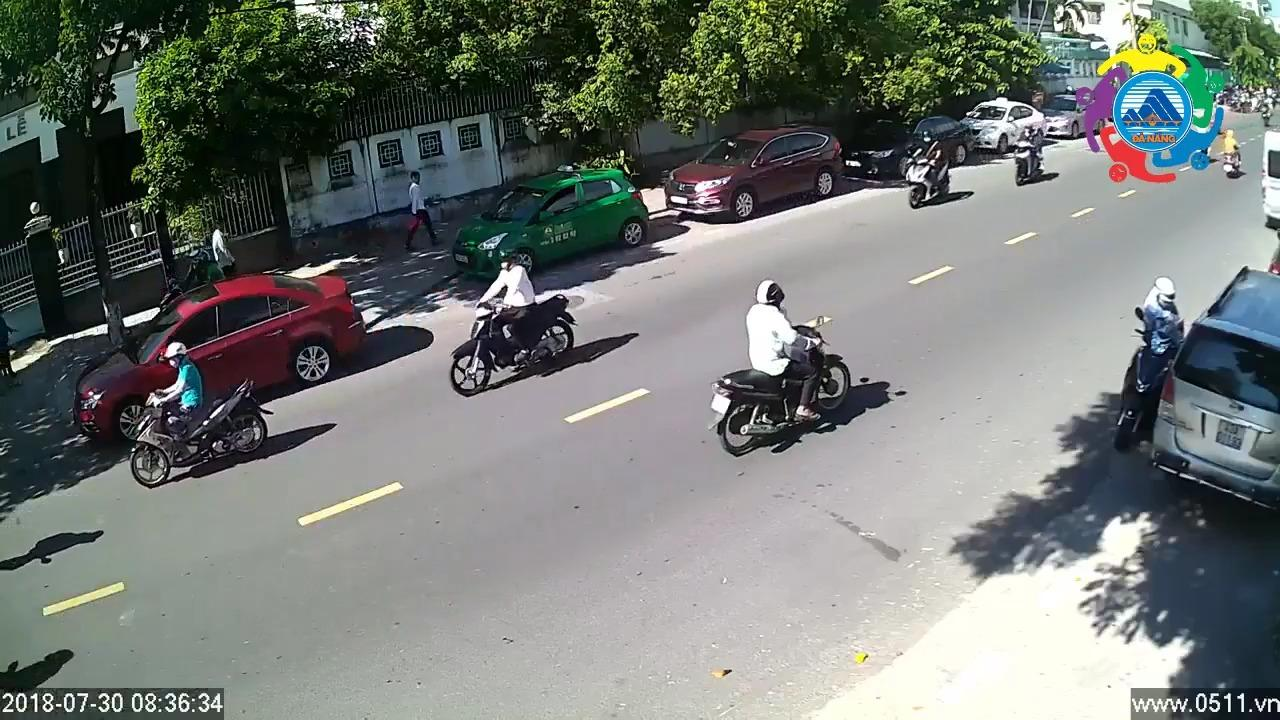car: (73, 257, 370, 450), (1144, 265, 1280, 519), (452, 164, 647, 288), (674, 119, 850, 228), (839, 105, 974, 195), (959, 94, 1049, 161), (1247, 117, 1280, 235)
motorcycle: (694, 245, 875, 465), (107, 348, 292, 492), (439, 248, 589, 413), (1110, 267, 1189, 446), (899, 145, 962, 223), (1006, 135, 1057, 190), (1216, 132, 1248, 182), (1252, 87, 1278, 130)
